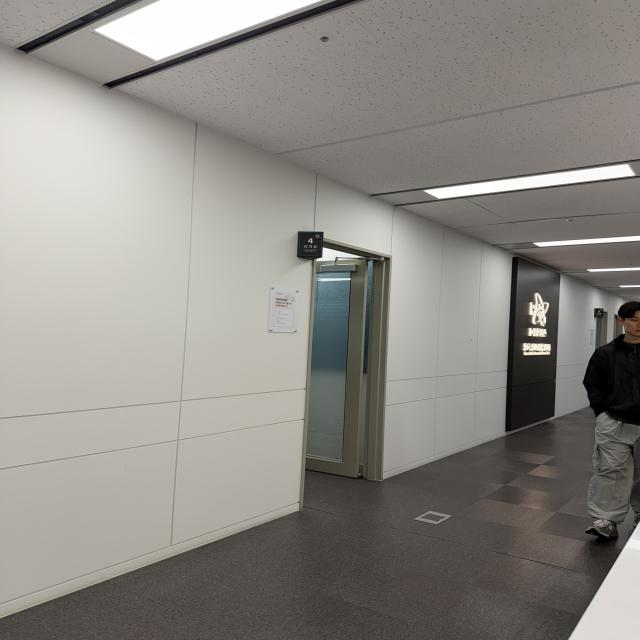room4: (299, 231, 324, 261)
